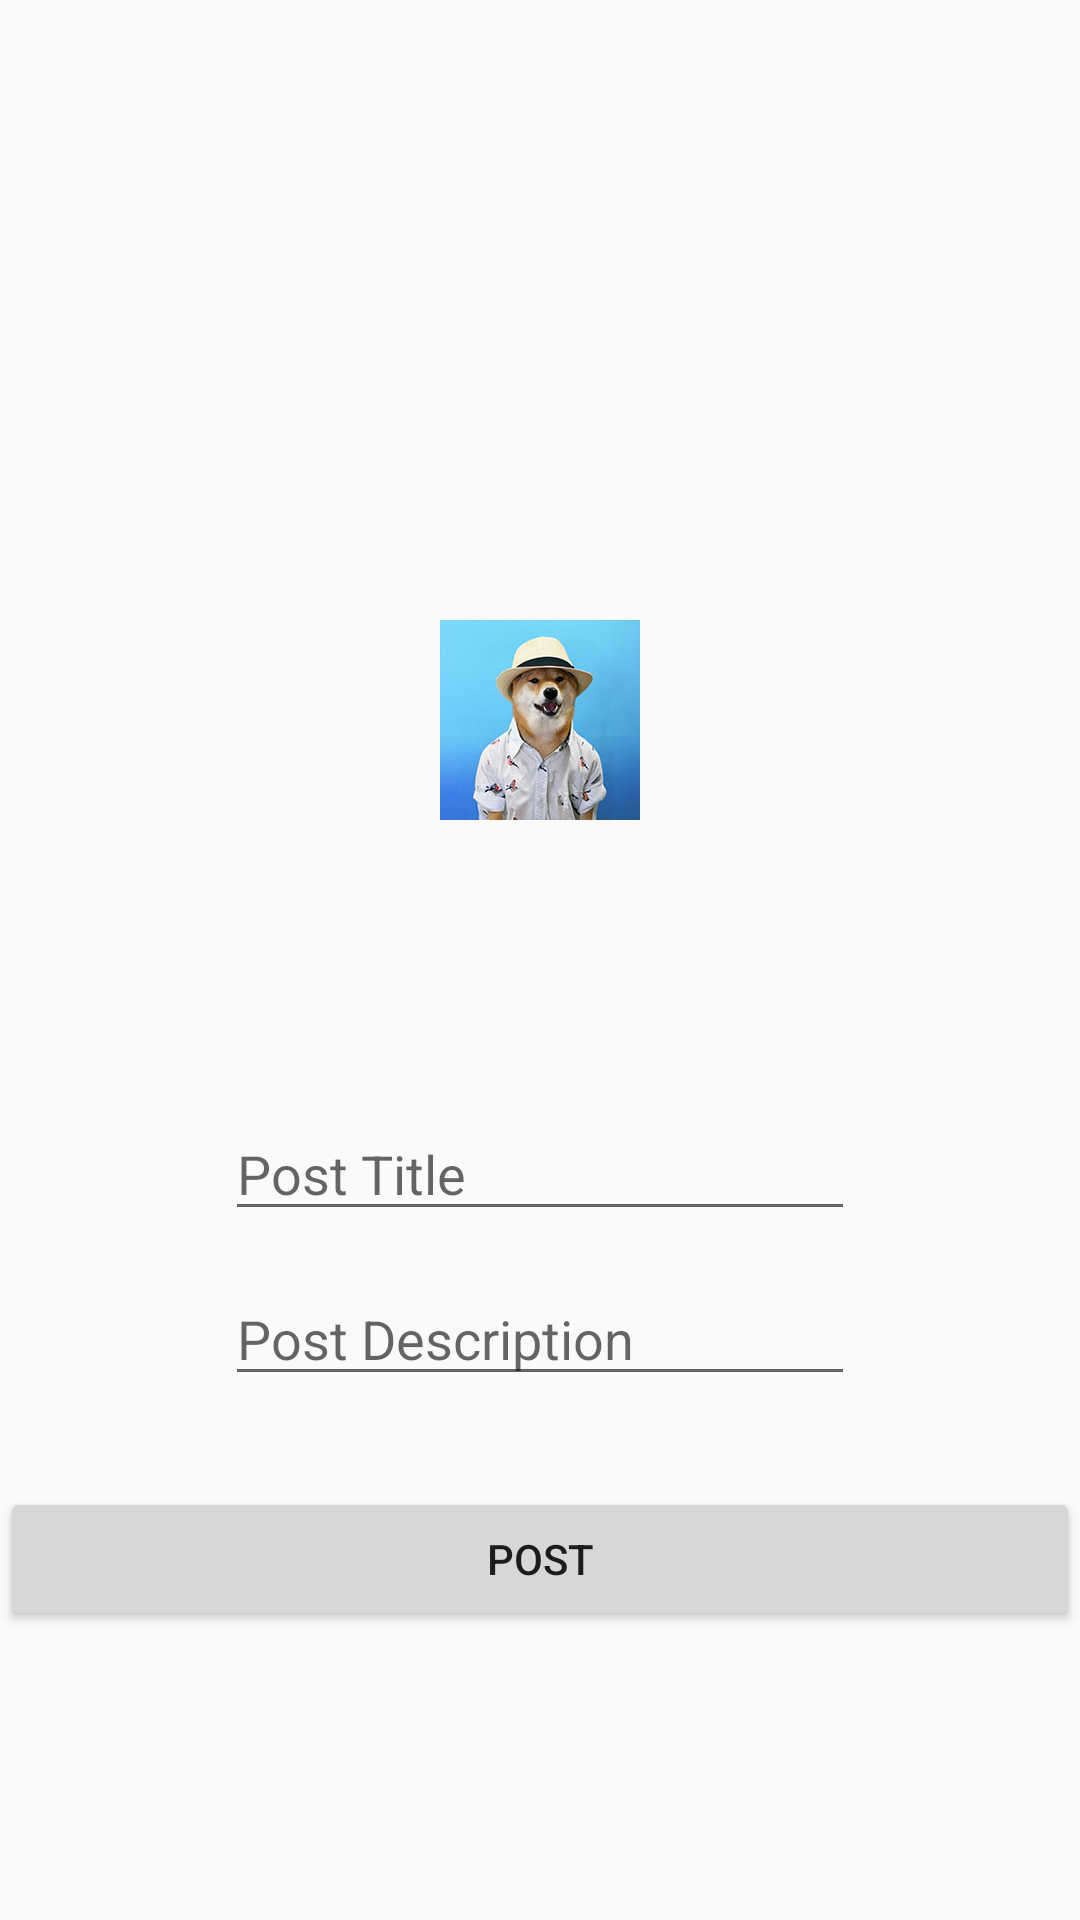

Screen size 1080 × 1920. Icon name, then its center in pixels as point (x, y):
Doge in Bucket Hat: point (540, 720)
